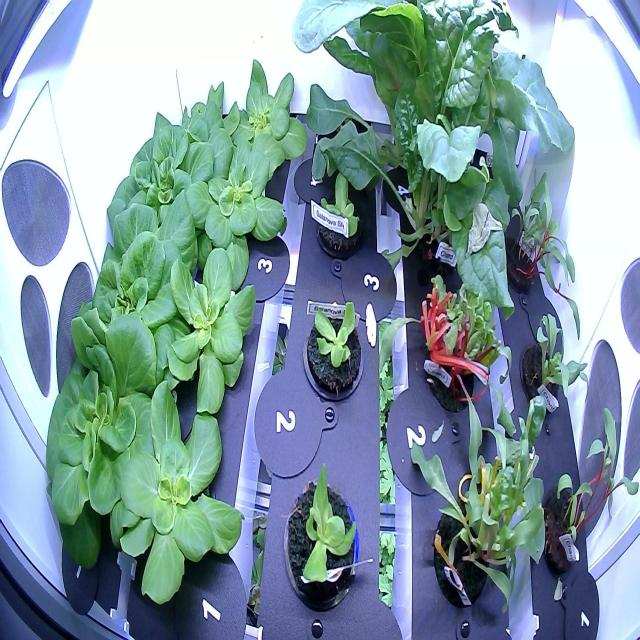young: (97, 376, 252, 630), (31, 298, 172, 557), (62, 175, 202, 401), (148, 240, 278, 428), (99, 100, 218, 286), (171, 134, 298, 295), (276, 452, 368, 626), (212, 46, 314, 193), (140, 70, 244, 188), (298, 292, 370, 413), (308, 157, 375, 271)
